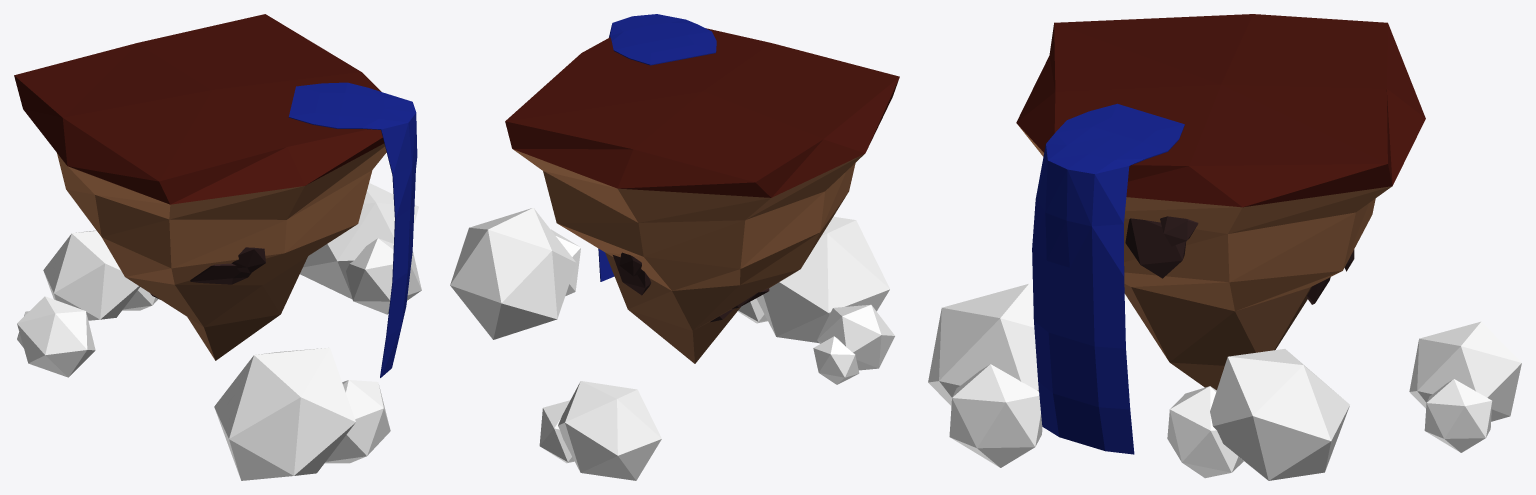
File: FloatingIsland.FBX
The picture shows the model from 3 angles, left to right: view 1: azimuth 30°, elevation 25°; view 2: azimuth 150°, elevation 25°; view 3: azimuth 270°, elevation 25°; orthographic projection. The views are drawn at different scales.
Visible parts, largest first — view 1: Box001, GeoSphere019, Plane001, GeoSphere017, GeoSphere015, GeoSphere013, GeoSphere018, GeoSphere012, GeoSphere005, GeoSphere007, GeoSphere016; view 2: Box001, GeoSphere013, GeoSphere019, GeoSphere017, Plane001, GeoSphere015, GeoSphere014, GeoSphere016, GeoSphere012, GeoSphere004; view 3: Box001, Plane001, GeoSphere013, GeoSphere019, GeoSphere018, GeoSphere017, GeoSphere012, GeoSphere016, GeoSphere008, GeoSphere009.
Part boxes in pixels (x1,y1,x2,y2): Box001: (14,14,386,360); GeoSphere019: (214,347,355,480); Plane001: (288,82,417,377); GeoSphere017: (43,230,139,320); GeoSphere015: (17,296,95,377); GeoSphere013: (300,183,418,299); GeoSphere018: (325,380,390,463); GeoSphere012: (346,238,421,314); GeoSphere005: (190,263,251,284); GeoSphere007: (231,247,265,273); GeoSphere016: (122,287,158,310); Box001: (505,28,899,363); GeoSphere013: (450,207,576,339); GeoSphere019: (756,216,889,342); GeoSphere017: (558,381,661,480); Plane001: (598,14,716,281); GeoSphere015: (817,304,894,370); GeoSphere014: (813,336,859,384); GeoSphere016: (539,400,574,463); GeoSphere012: (551,229,580,295); GeoSphere004: (613,255,651,295); Box001: (1016,14,1425,390); Plane001: (1032,103,1184,454); GeoSphere013: (1210,349,1349,480); GeoSphere019: (928,284,1038,405); GeoSphere018: (949,364,1042,467); GeoSphere017: (1409,321,1521,421); GeoSphere012: (1167,386,1243,478); GeoSphere016: (1424,379,1492,452); GeoSphere008: (1125,218,1186,278); GeoSphere009: (1160,216,1198,246).
Size of the model in its own units: 48.22 by 35.37 by 52.83.
